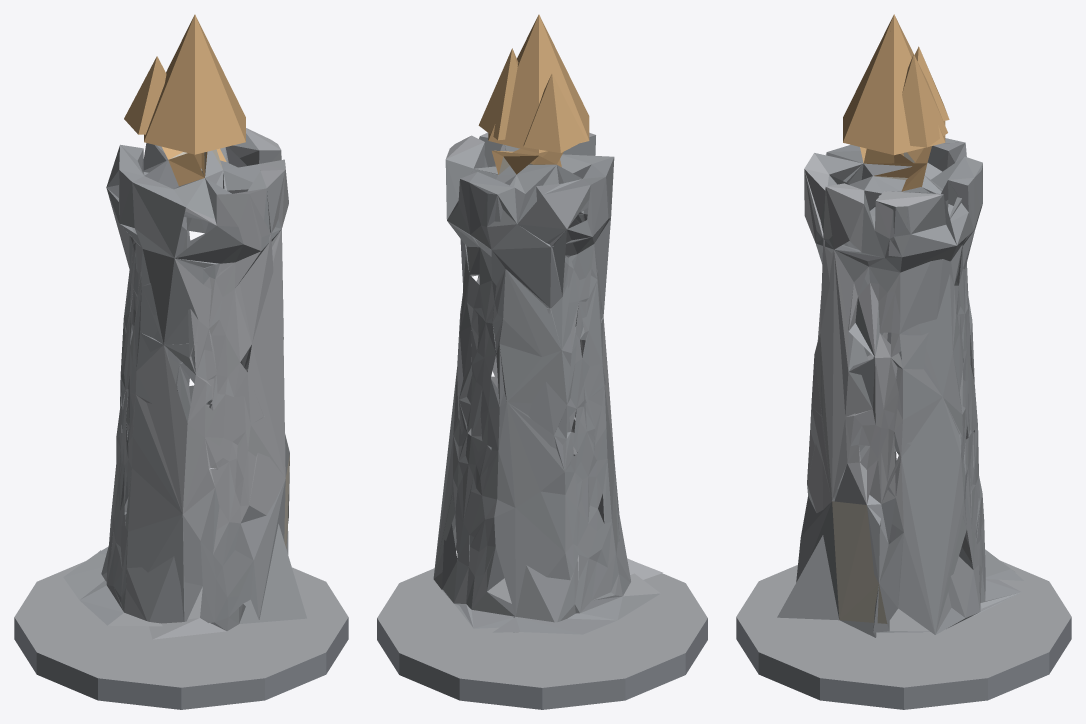
3 renders of one model, left to right at view 1: azimuth 30°, elevation 25°; view 2: azimuth 150°, elevation 25°; view 3: azimuth 270°, elevation 25°, orthographic.
Visible parts, largest first — view 1: geometry_0; view 2: geometry_0; view 3: geometry_0.
Part boxes in pixels (<box>): geometry_0: <box>14,14,348,709</box>; geometry_0: <box>377,14,707,709</box>; geometry_0: <box>736,14,1071,709</box>.
Bounding box in the file's own units: 0.68 × 1.41 × 0.68.
